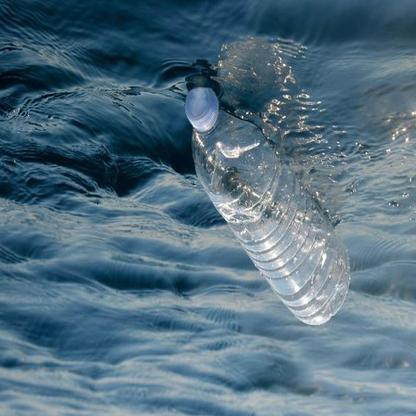plastic bottle: (182, 87, 353, 327)
